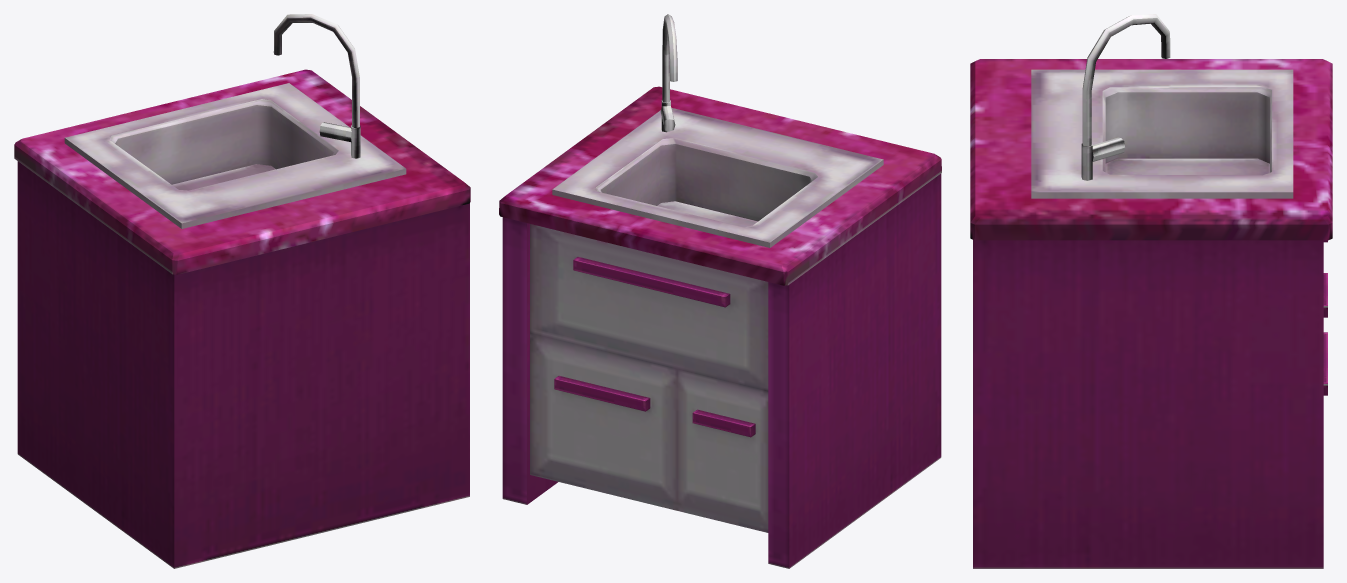
The model's file is furni_0200521_01.FBX.
The picture shows the model from 3 angles, left to right: view 1: azimuth 30°, elevation 25°; view 2: azimuth 150°, elevation 25°; view 3: azimuth 270°, elevation 25°; orthographic projection. The views are drawn at different scales.
Parts seen in each view (by area): view 1: furni_0200521_01; view 2: furni_0200521_01; view 3: furni_0200521_01.
Part boxes in pixels (bbox=[...]): furni_0200521_01: bbox=[14, 14, 470, 568]; furni_0200521_01: bbox=[499, 14, 941, 568]; furni_0200521_01: bbox=[970, 14, 1332, 568].
Bounding box in the file's own units: 79.8 × 116 × 74.96.
Materials: 1 (1 with a texture image).
